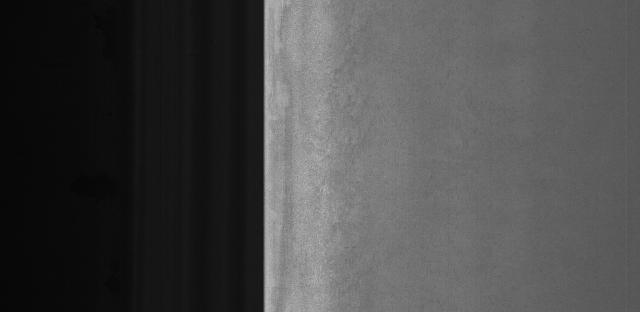silk_spot: (298, 42, 379, 222)
